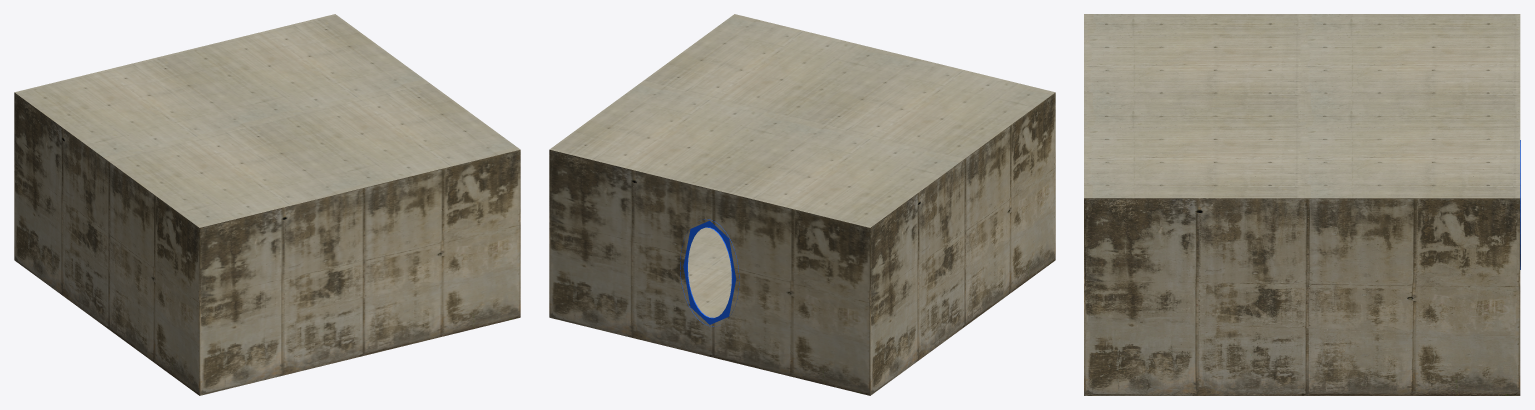
File: interior.obj
The picture shows the model from 3 angles, left to right: view 1: azimuth 30°, elevation 25°; view 2: azimuth 150°, elevation 25°; view 3: azimuth 270°, elevation 25°; orthographic projection. The views are drawn at different scales.
Parts seen in each view (by area): view 1: Room_Plane; view 2: Room_Plane; view 3: Room_Plane.
Part boxes in pixels (bbox=[...]): Room_Plane: bbox=[14, 14, 520, 395]; Room_Plane: bbox=[549, 14, 1055, 395]; Room_Plane: bbox=[1084, 14, 1520, 395].
Size of the model in its own units: 20 by 10 by 20.03.
Materials: 9 (3 with a texture image).
